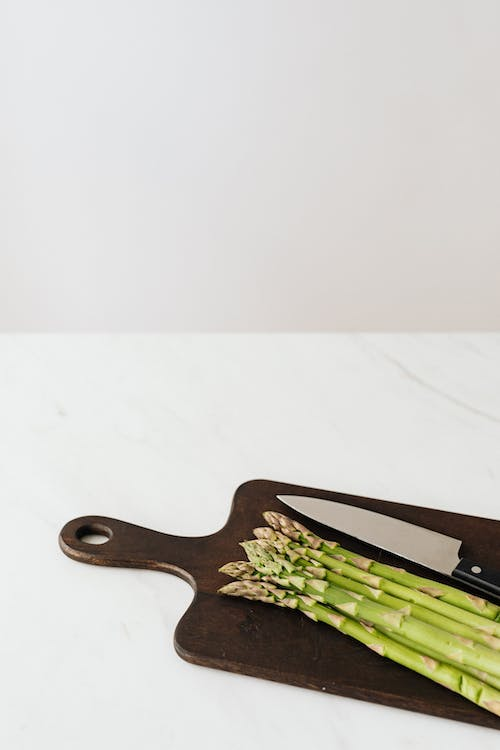knife: (272, 492, 500, 600)
